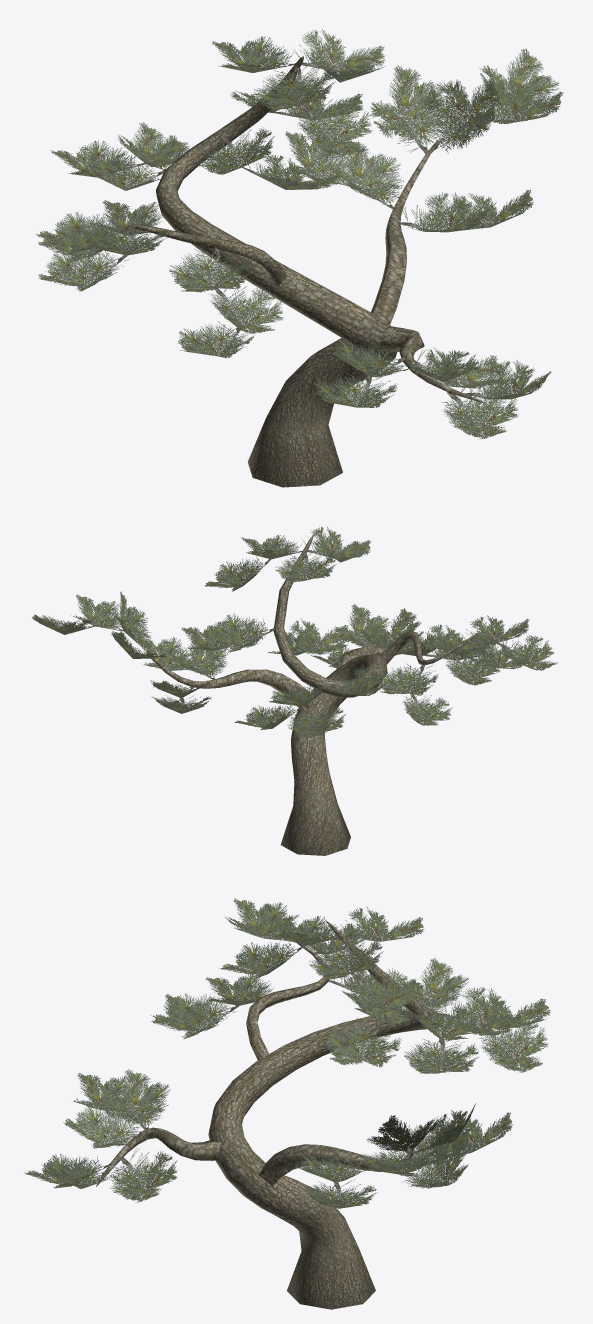
The model's file is PineTree03.fbx.
3 views of the same model, one above another, from view 1: azimuth 30°, elevation 25°; view 2: azimuth 150°, elevation 25°; view 3: azimuth 270°, elevation 25° (orthographic). The views are drawn at different scales.
Visible parts, largest first — view 1: PineTree03; view 2: PineTree03; view 3: PineTree03.
Boxes of the visible parts, x1,y1,x2,y2 form: PineTree03: [36, 29, 563, 487]; PineTree03: [32, 526, 557, 855]; PineTree03: [24, 898, 550, 1309].
Size of the model in its own units: 353 by 222 by 300.
